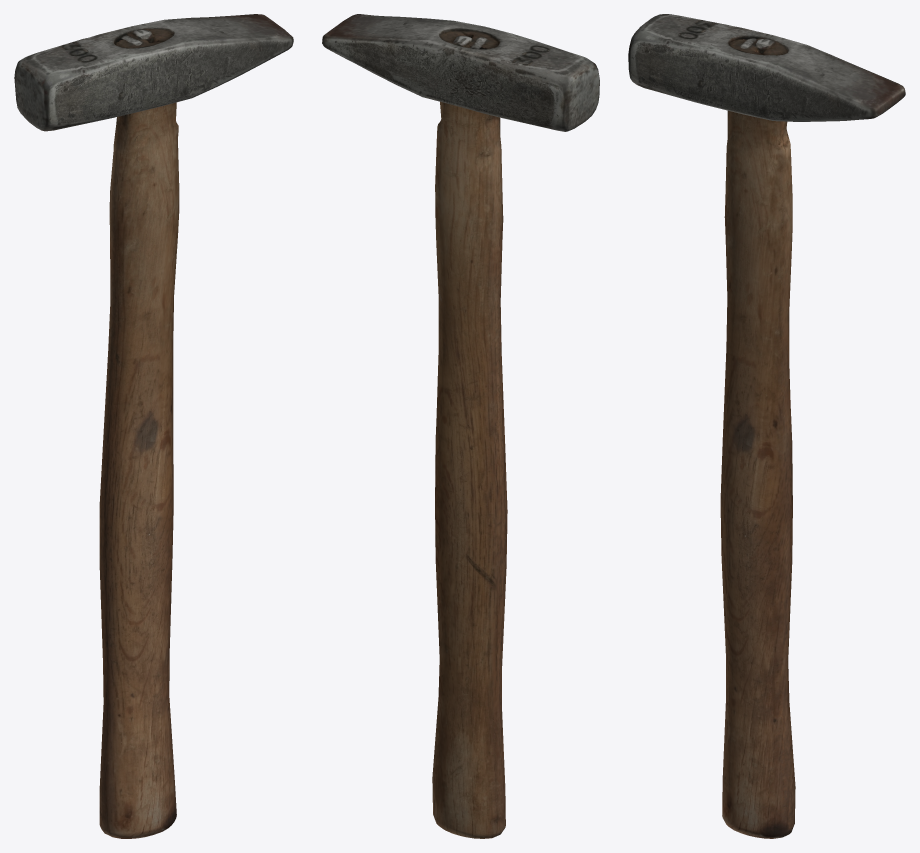
File: cross_pein_hammer.glb
The picture shows the model from 3 angles, left to right: view 1: azimuth 30°, elevation 25°; view 2: azimuth 150°, elevation 25°; view 3: azimuth 330°, elevation 25°; orthographic projection.
Visible parts, largest first — view 1: cross_pein_hammer; view 2: cross_pein_hammer; view 3: cross_pein_hammer.
Part boxes in pixels (bbox=[...]): cross_pein_hammer: bbox=[14, 14, 293, 838]; cross_pein_hammer: bbox=[322, 14, 599, 838]; cross_pein_hammer: bbox=[628, 14, 905, 838].
Size of the model in its own units: 0.0991 by 0.3002 by 0.0243.
1 material, 1 textured.
